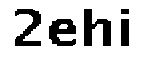2: (13, 7, 44, 50)
e: (48, 17, 77, 52)
h: (81, 2, 113, 48)
i: (119, 6, 135, 49)
